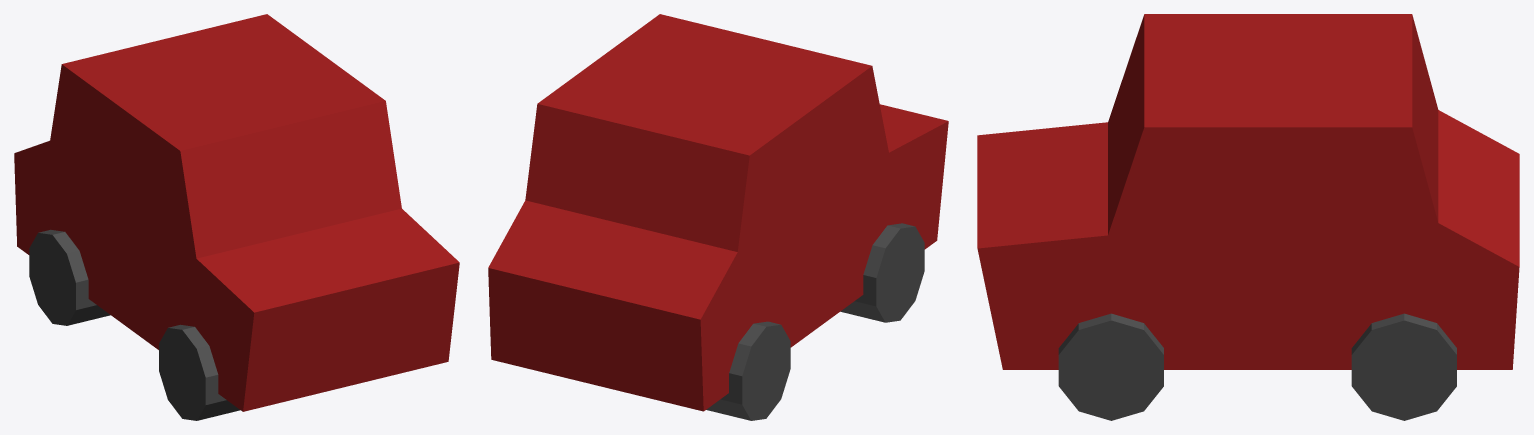
The model's file is car.fbx.
3 views of the same model, side by side, from view 1: azimuth 30°, elevation 25°; view 2: azimuth 150°, elevation 25°; view 3: azimuth 270°, elevation 25° (orthographic). The views are drawn at different scales.
Visible parts, largest first — view 1: pCube2; view 2: pCube2; view 3: pCube2.
Boxes of the visible parts, x1,y1,x2,y2 form: pCube2: (14,14,459,420); pCube2: (488,14,948,420); pCube2: (977,14,1519,420).
Size of the model in its own units: 5.42 by 5.71 by 9.78.
